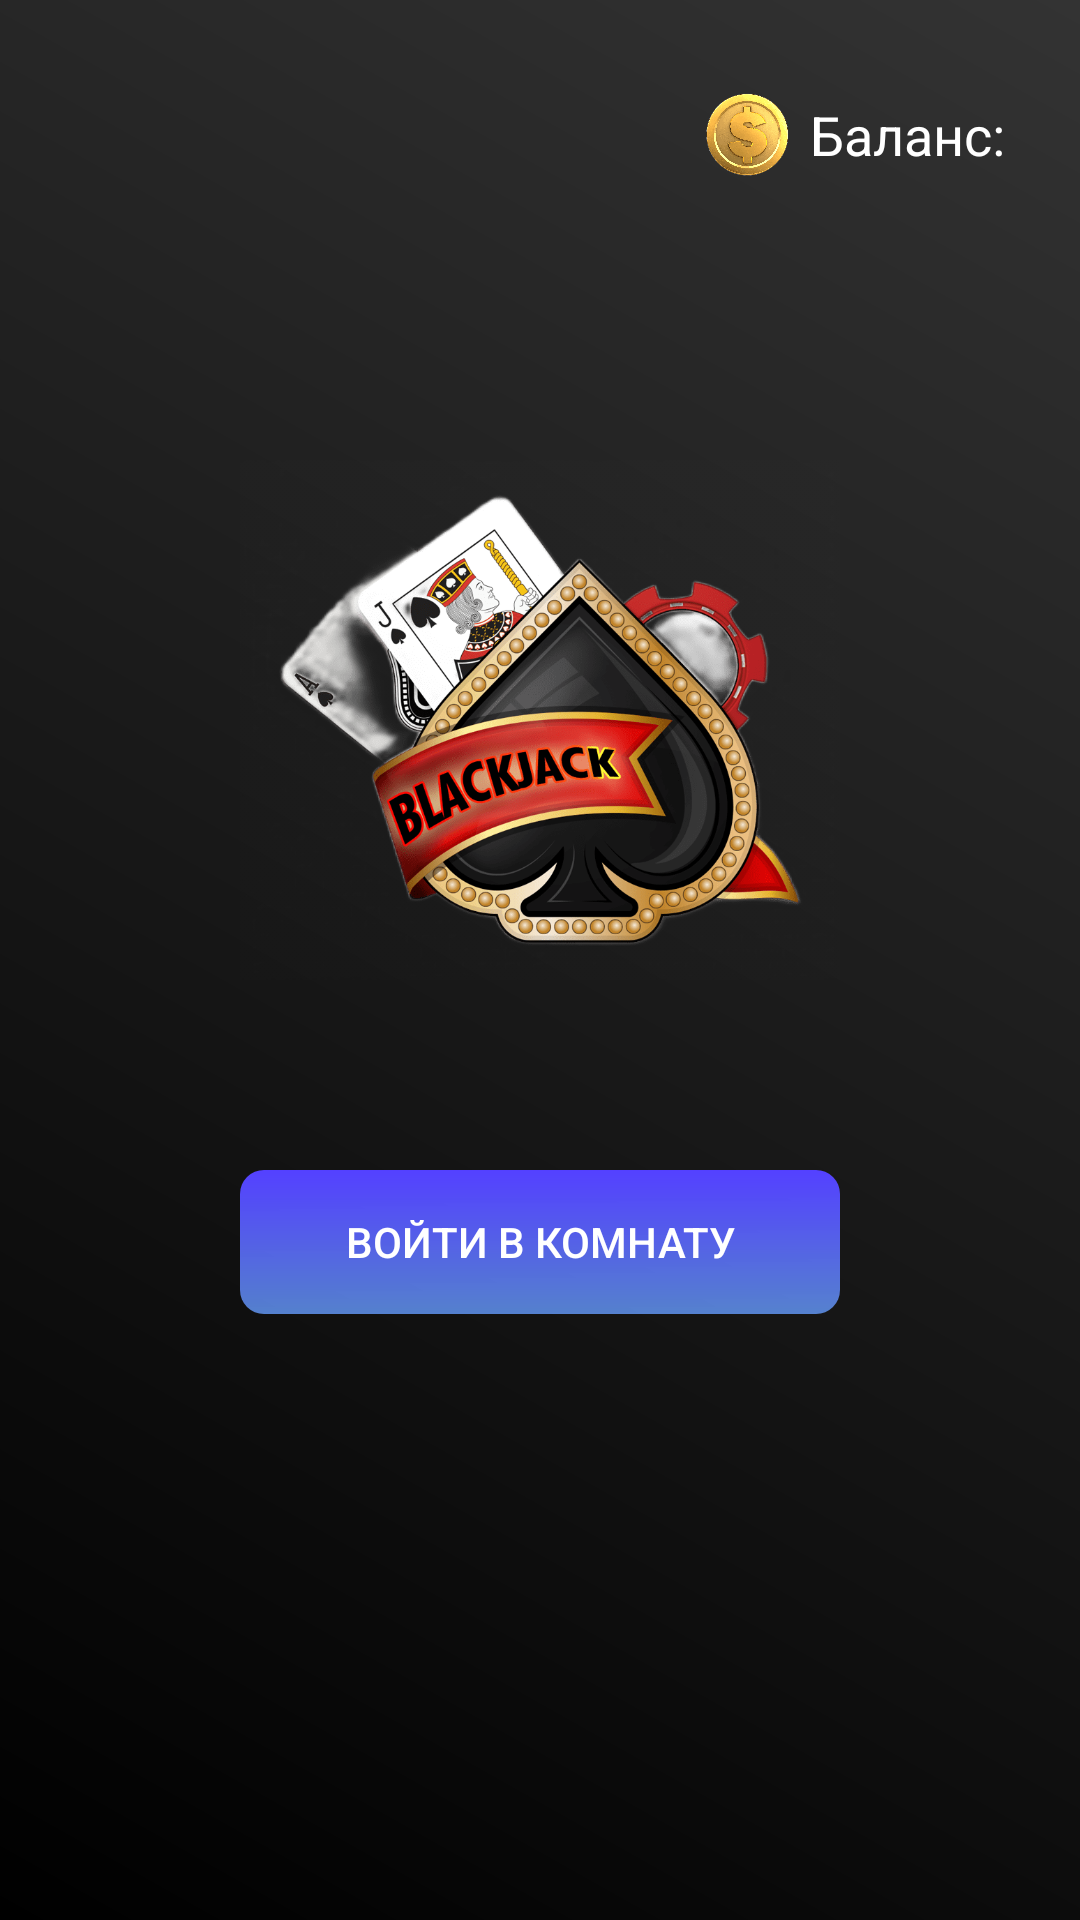

Point at icon controls on the screen. Image size 1080*1920, points as (x,y).
coin: (747,135)
